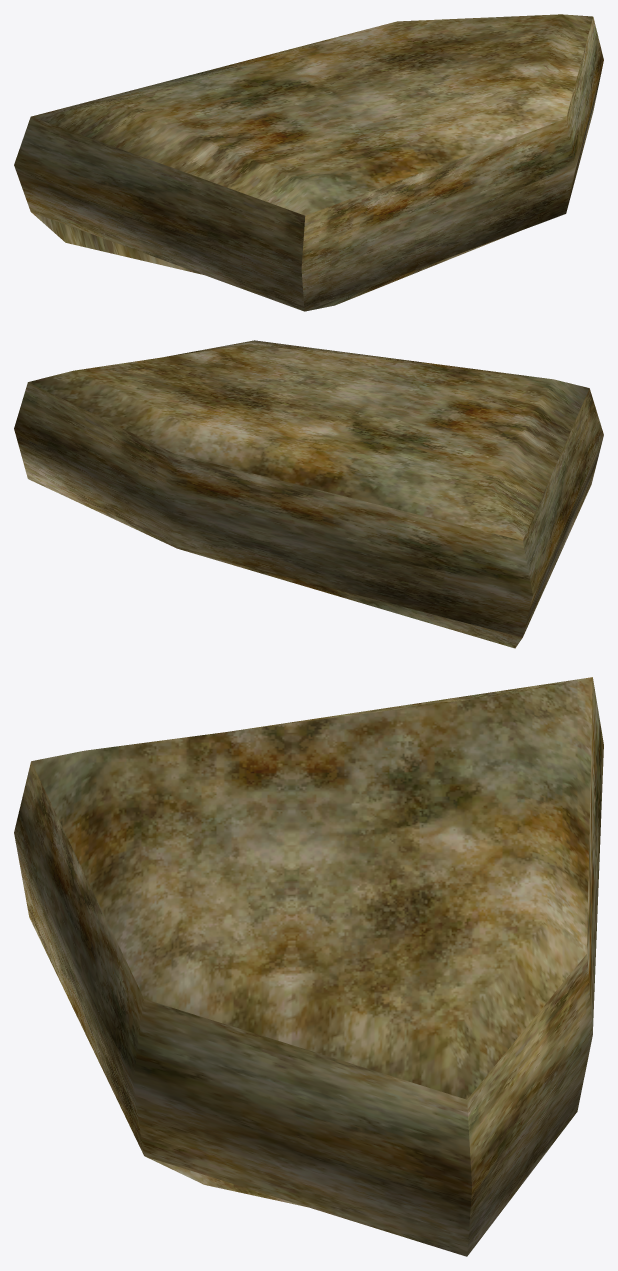
The model's file is TROLLHOLE02_RM_FALL_ROCK09.fbx.
3 views of the same model, one above another, from view 1: azimuth 30°, elevation 25°; view 2: azimuth 150°, elevation 25°; view 3: azimuth 270°, elevation 25° (orthographic). The views are drawn at different scales.
Parts seen in each view (by area): view 1: TROLLHOLE02_RM_FALL_ROCK09; view 2: TROLLHOLE02_RM_FALL_ROCK09; view 3: TROLLHOLE02_RM_FALL_ROCK09.
Boxes of the visible parts, bbox=[...] form: TROLLHOLE02_RM_FALL_ROCK09: bbox=[14, 14, 603, 311]; TROLLHOLE02_RM_FALL_ROCK09: bbox=[14, 340, 603, 648]; TROLLHOLE02_RM_FALL_ROCK09: bbox=[14, 677, 603, 1256].
Bounding box in the file's own units: 18139 × 5041 × 10206.
1 material, 1 textured.
